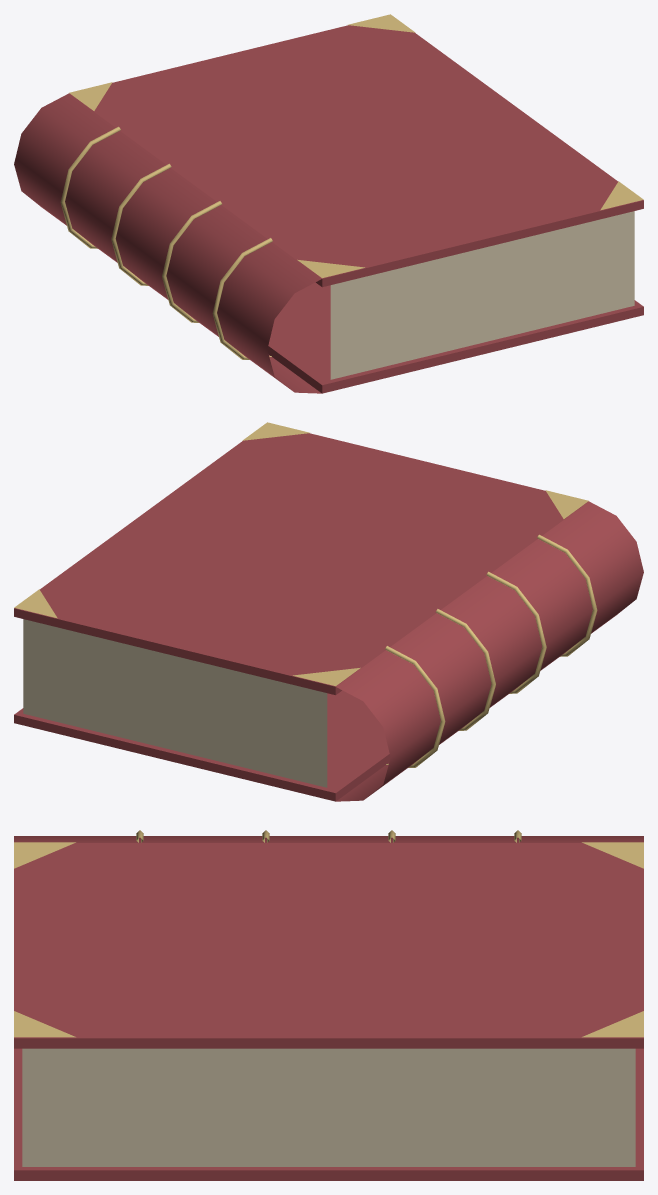
Rendered from Tome.fbx.
3 renders of one model, top to bottom at view 1: azimuth 30°, elevation 25°; view 2: azimuth 150°, elevation 25°; view 3: azimuth 270°, elevation 25°, orthographic. The views are drawn at different scales.
Parts seen in each view (by area): view 1: Tome; view 2: Tome; view 3: Tome.
Part boxes in pixels (x1,y1,x2,y2): Tome: (14, 14, 643, 393); Tome: (14, 422, 643, 801); Tome: (14, 830, 643, 1180).
Bounding box in the file's own units: 0.2603 × 0.0805 × 0.3.
